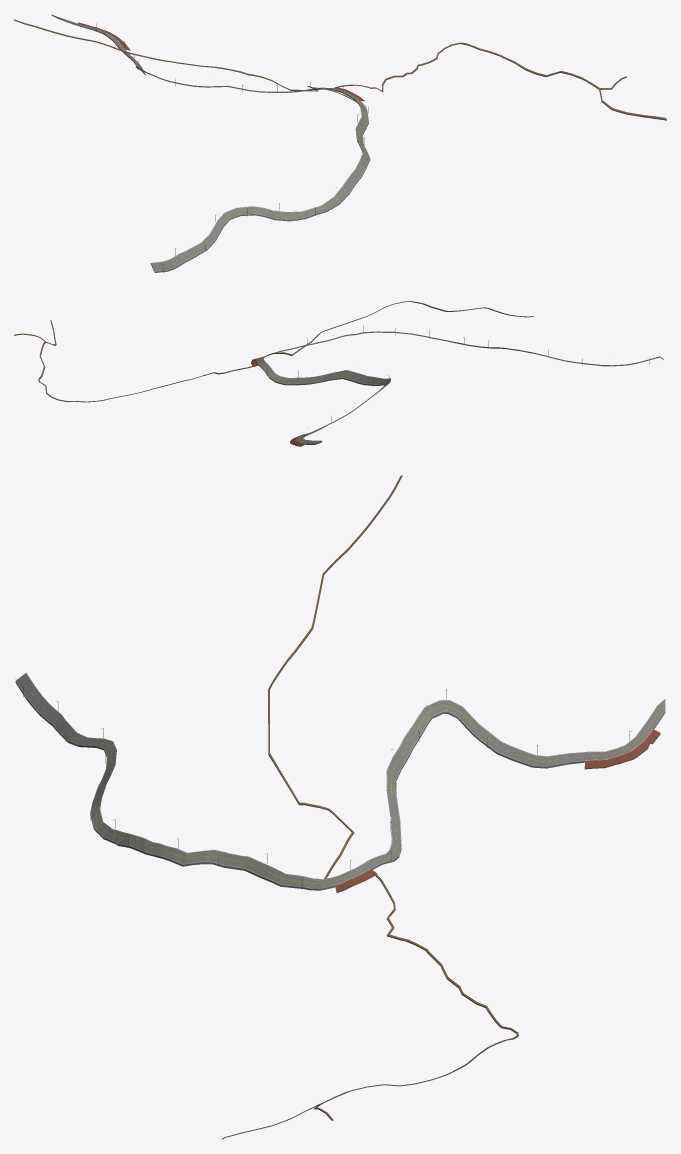
3 renders of one model, top to bottom at view 1: azimuth 30°, elevation 25°; view 2: azimuth 150°, elevation 25°; view 3: azimuth 270°, elevation 25°, orthographic. The views are drawn at different scales.
Bounding box in the file's own units: 589 × 189 × 411.
